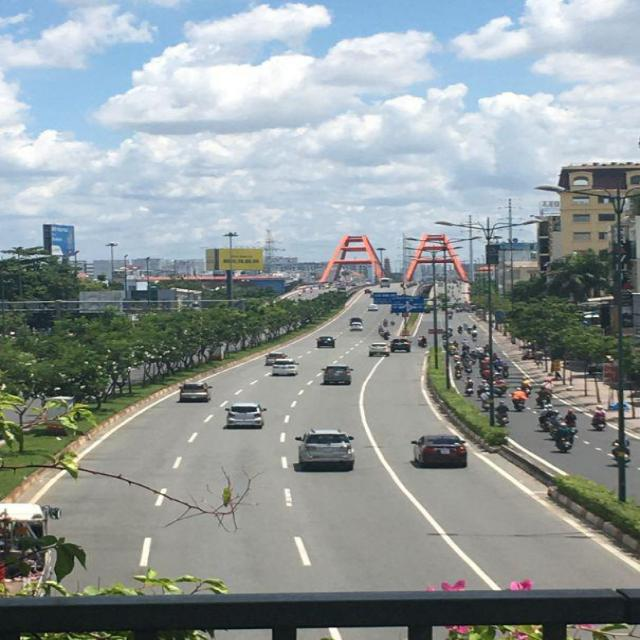car: (296, 430, 354, 474), (412, 434, 468, 470), (224, 400, 265, 430), (179, 379, 212, 402), (268, 355, 299, 379), (323, 366, 354, 387), (368, 340, 392, 357), (391, 338, 415, 354), (316, 336, 336, 348), (350, 317, 364, 329), (348, 320, 362, 332)
motorcycle: (552, 428, 576, 452)
